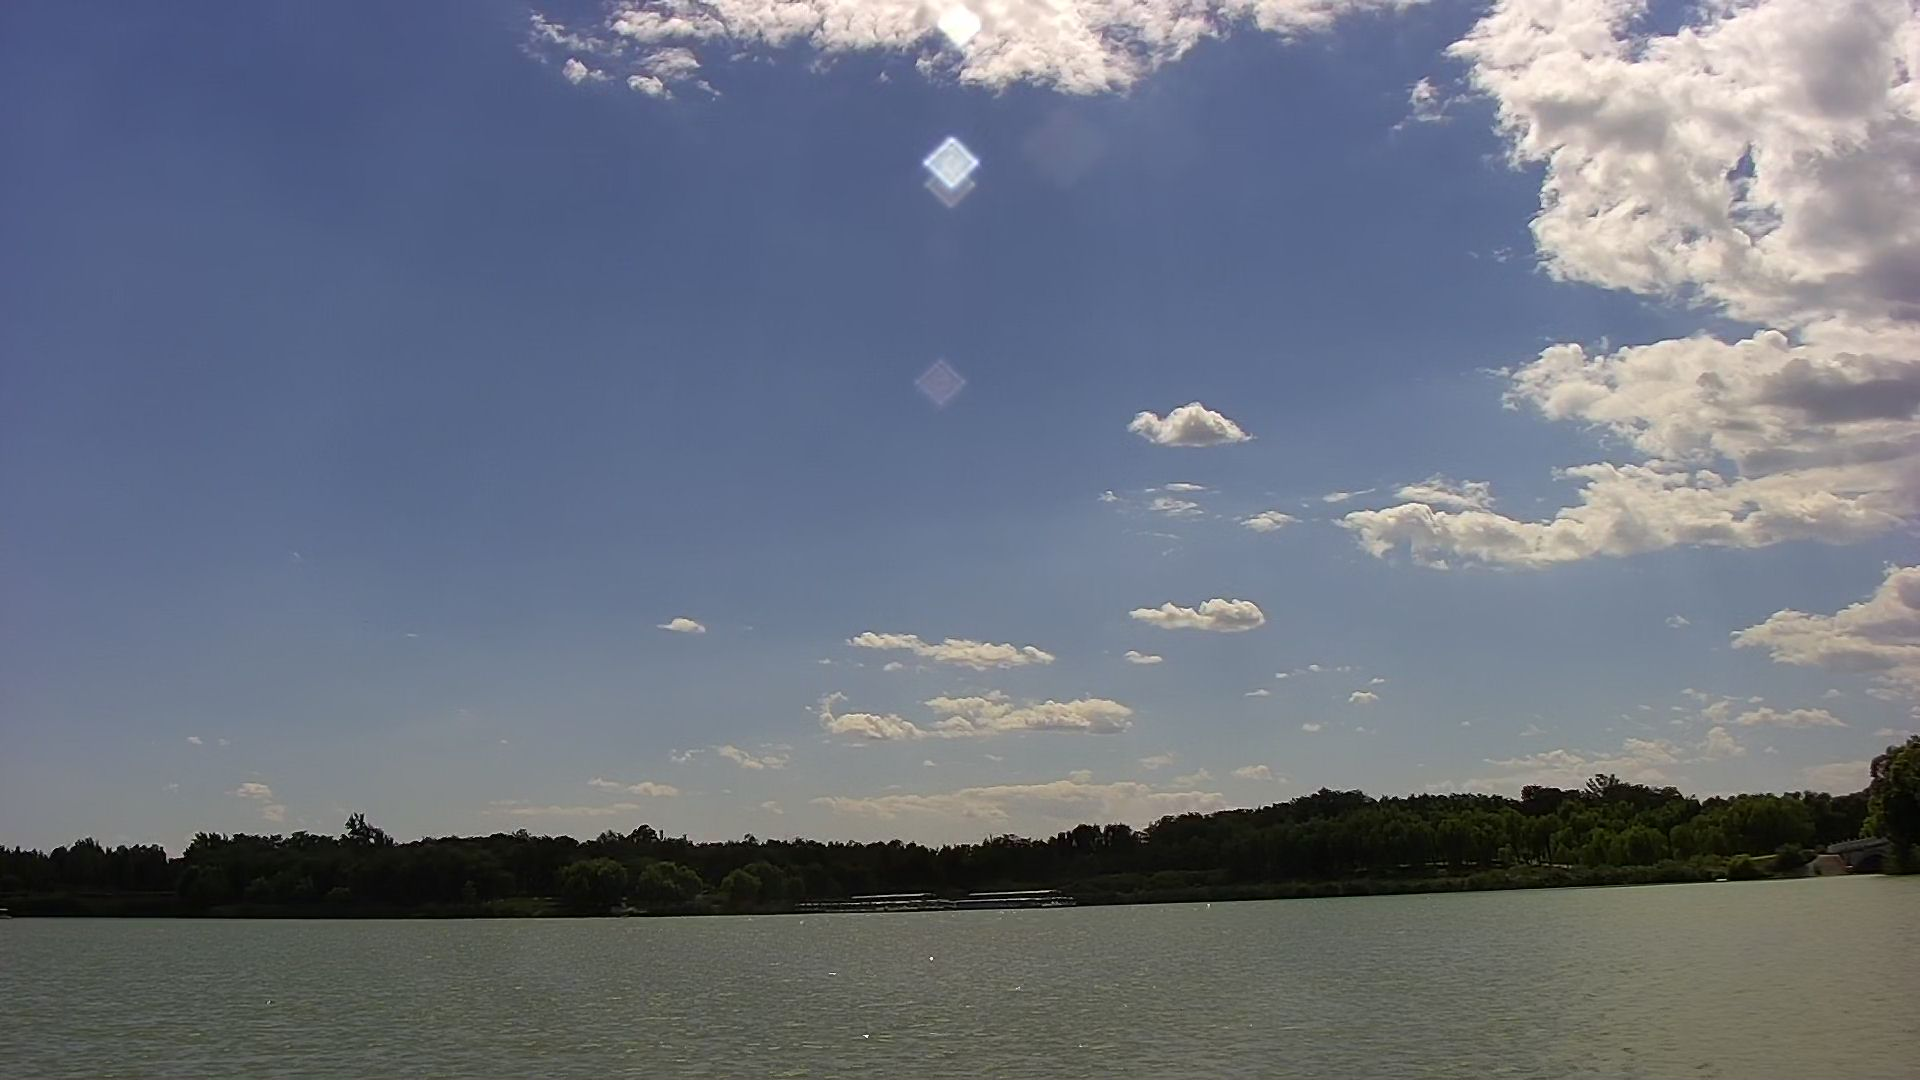harbor: (840, 893, 1069, 914)
